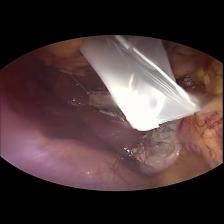Specimen Bag: (77, 33, 209, 135)
